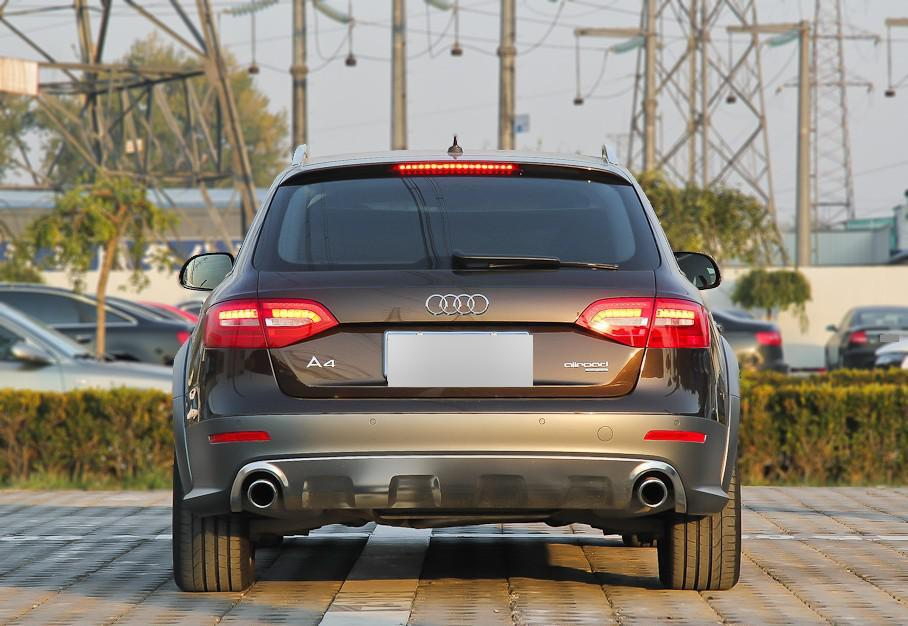Wagon: (170, 132, 744, 593)
